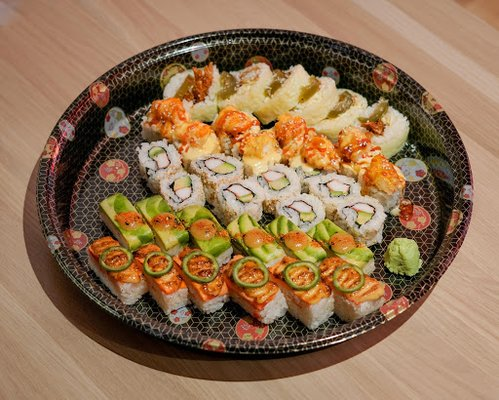curry: (0, 1, 486, 387)
sandwich: (53, 33, 475, 356)
